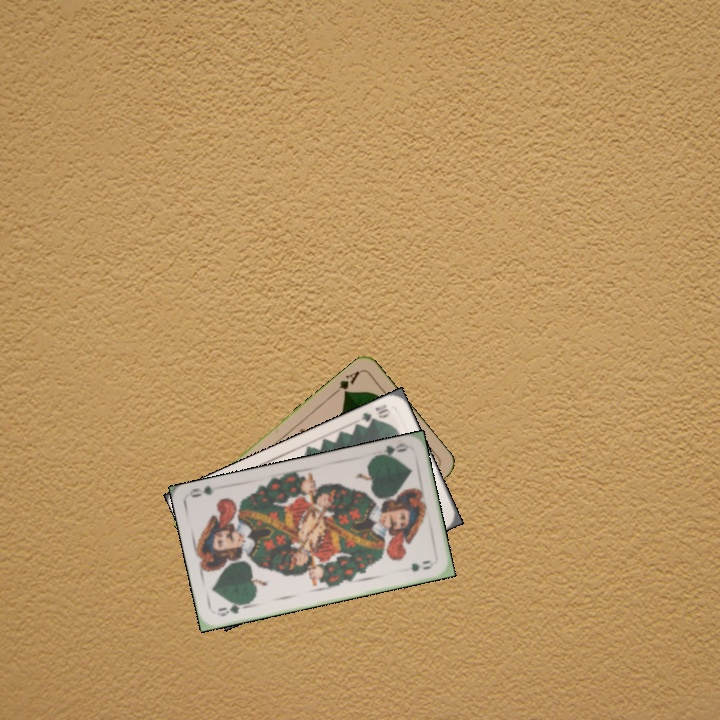G10: (357, 400, 393, 428)
GA: (330, 366, 364, 397)
GO: (370, 439, 410, 461), (213, 599, 252, 619)
